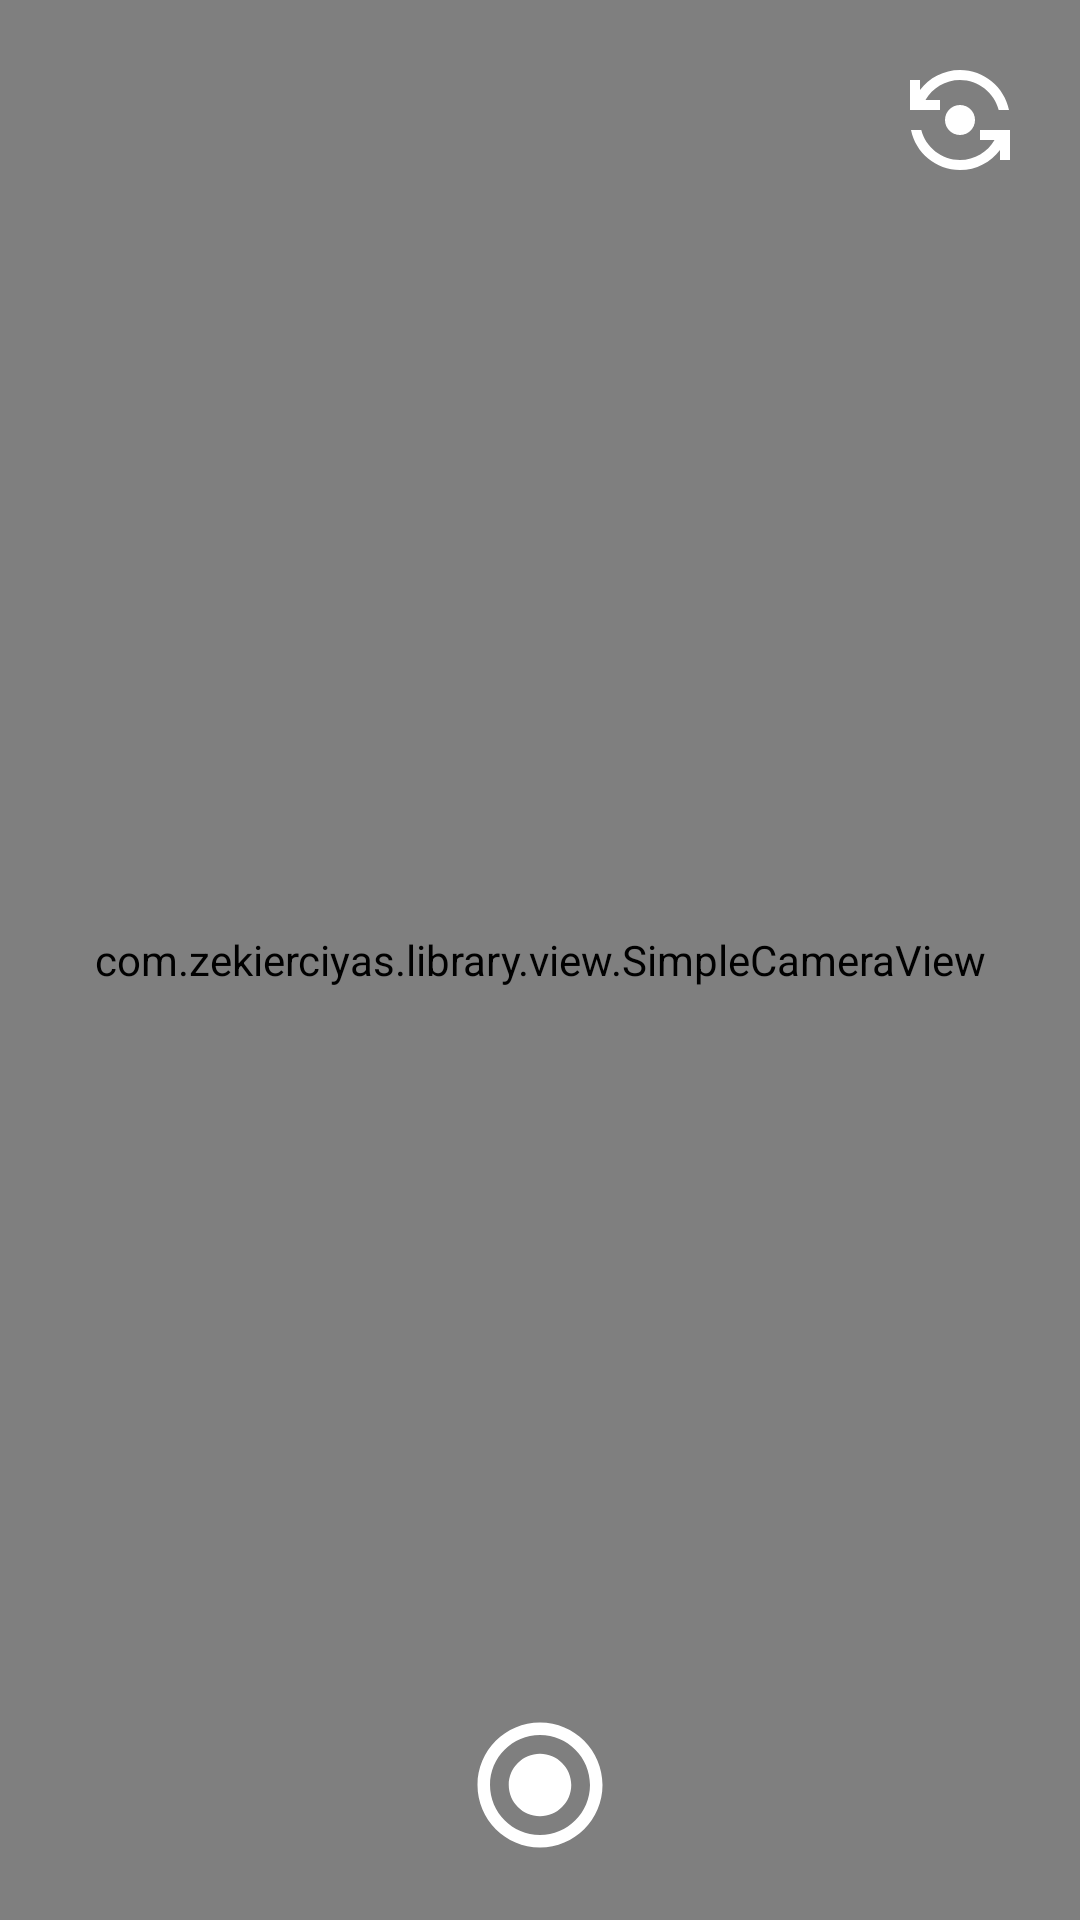

Icon click points for this 1080px×1920px phone screenshot, format (x=x, y=y):
capture: (x=540, y=1785)
flip camera: (x=960, y=120)
